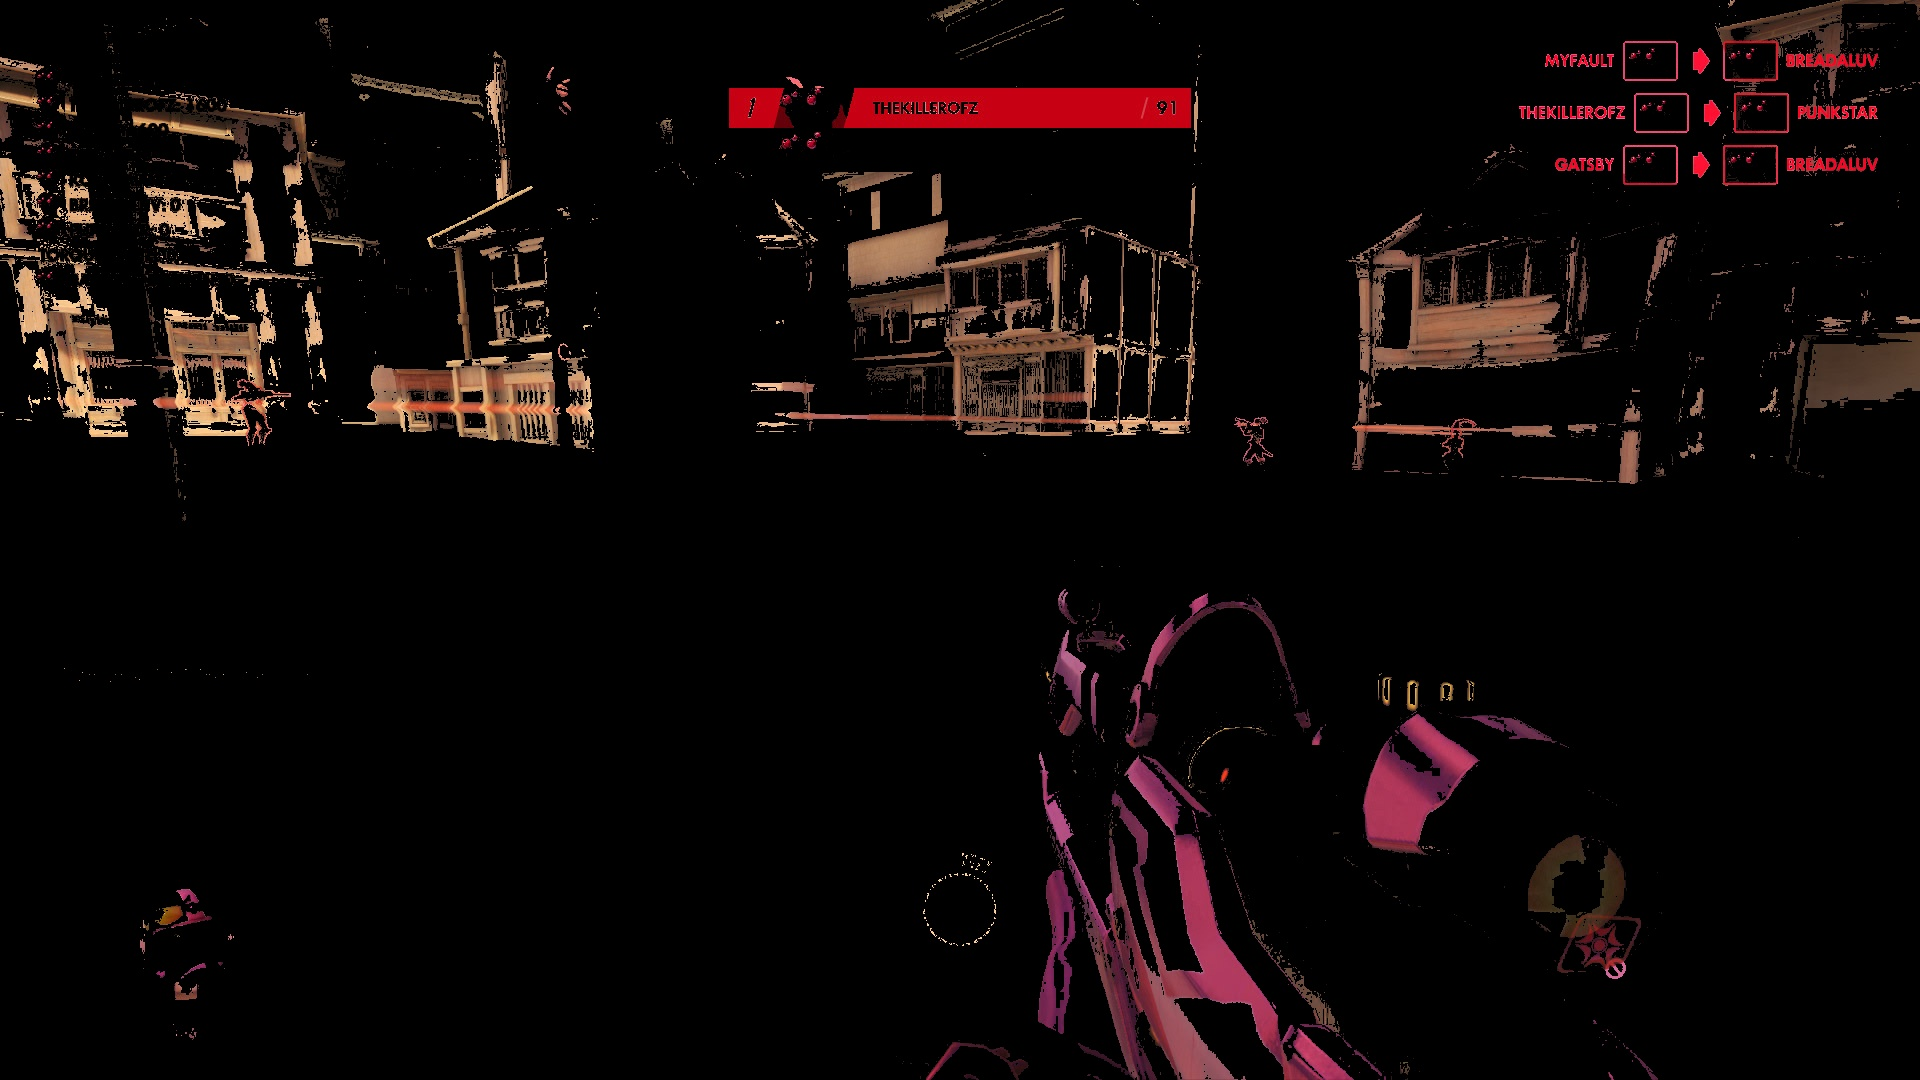widowmaker: (233, 376, 289, 456), (1230, 415, 1279, 473), (1433, 419, 1476, 477)
